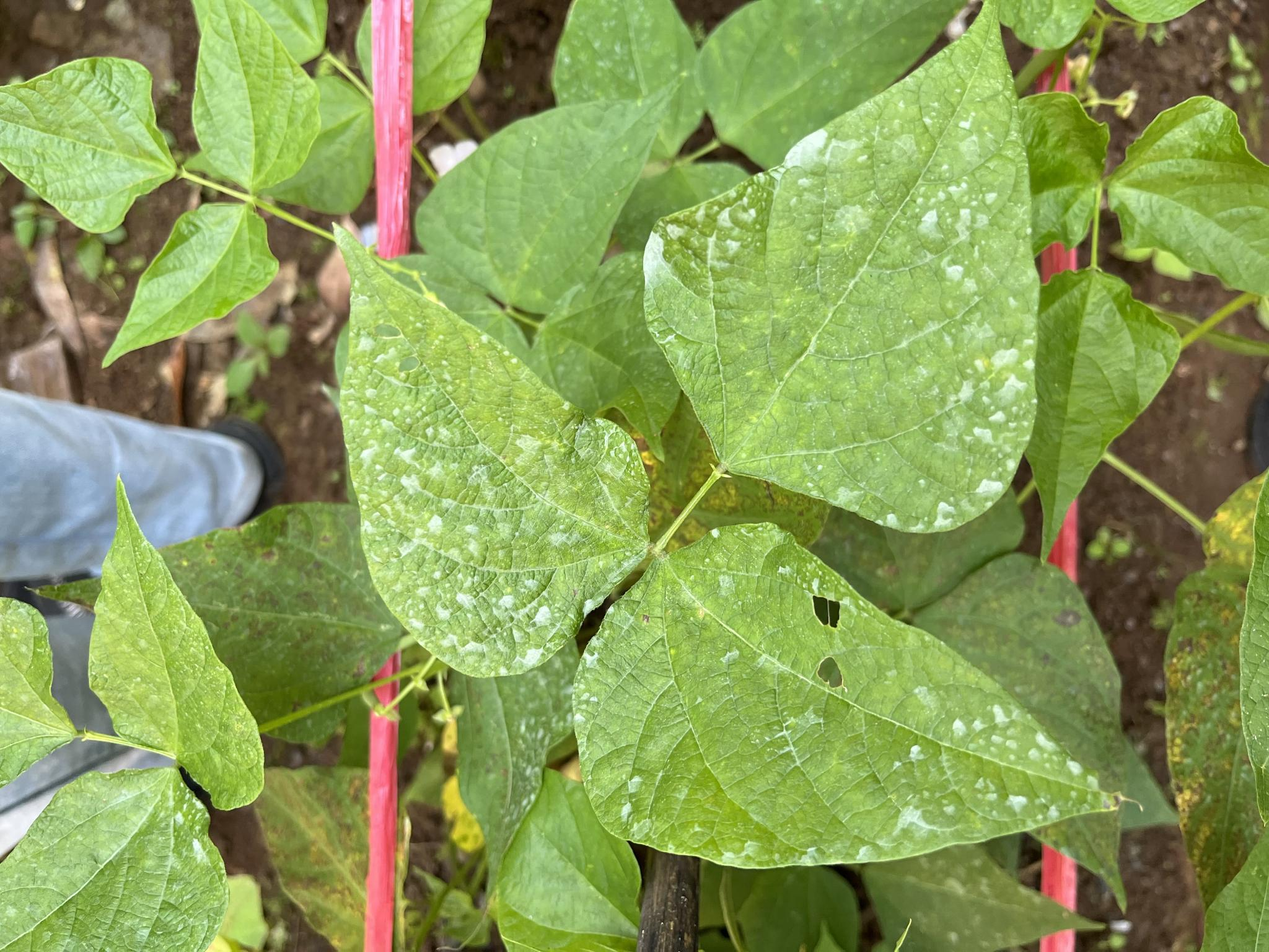embun tepung: (629, 0, 1045, 547), (346, 281, 657, 673)
mozaik: (812, 570, 852, 644), (812, 659, 867, 688)
